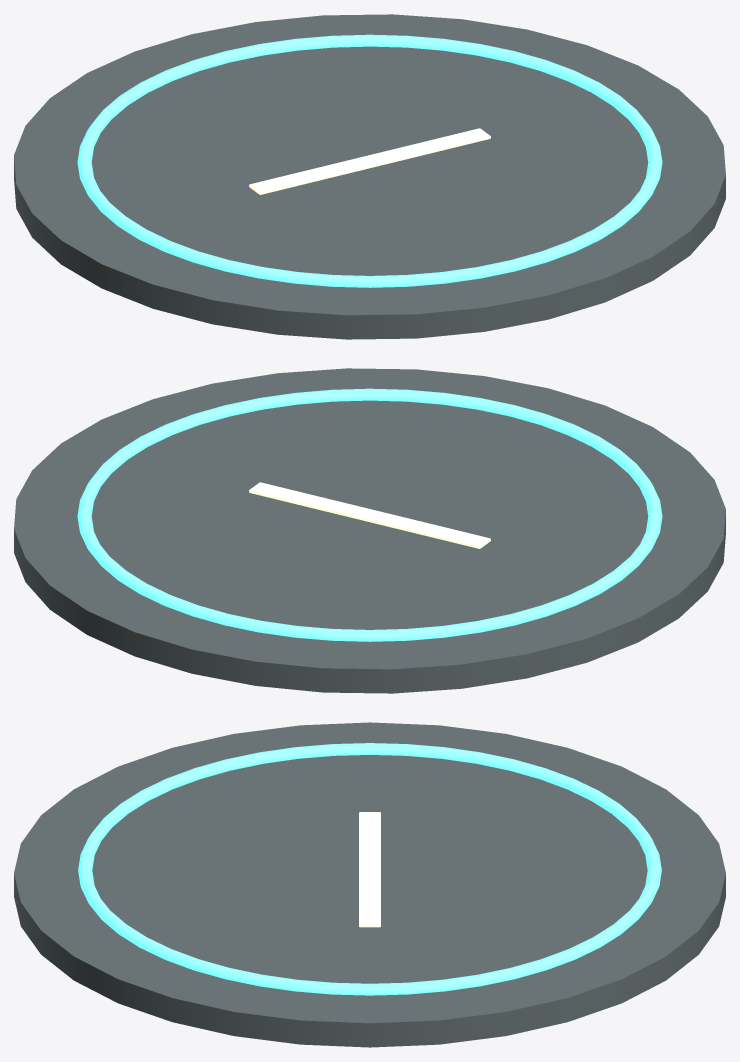
Rendered from pad.lod0.glb.
3 views of the same model, one above another, from view 1: azimuth 30°, elevation 25°; view 2: azimuth 150°, elevation 25°; view 3: azimuth 270°, elevation 25° (orthographic).
Visible parts, largest first — view 1: structure; view 2: structure; view 3: structure.
Boxes of the visible parts, left/top/right/bottom form: structure: left=14, top=14, right=725, bottom=339; structure: left=14, top=368, right=725, bottom=693; structure: left=14, top=722, right=725, bottom=1047.
Bounding box in the file's own units: 8 × 0.3993 × 8.
